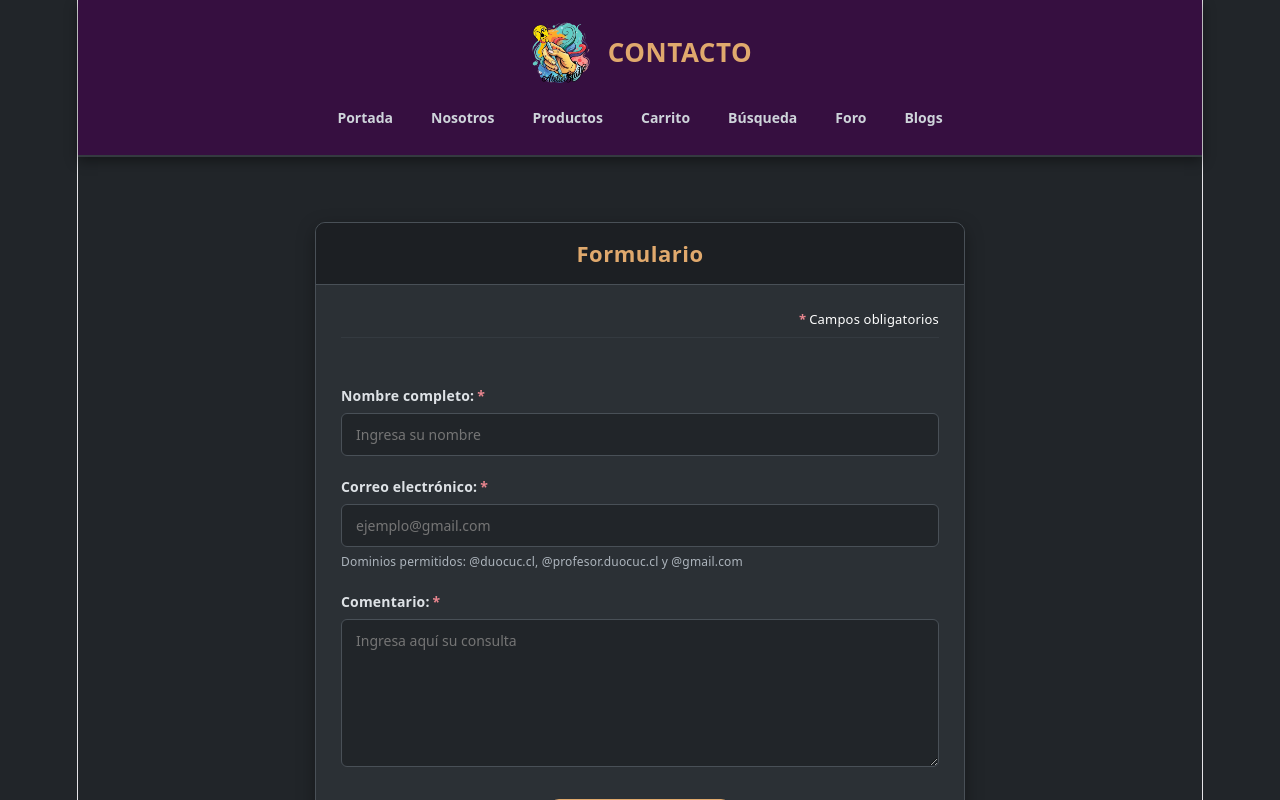
Test case: Pruebas Unitarias: Componente Contacto › CP-CONT-02: Debe mostrar error si el correo no pertenece a los dominios autorizados
Type "Gonzalo Hormazábal" into the field with placeholder "Ingresa su nombre".
click(640, 435); type("Gonzalo Hormazábal")  # box x1=341 y1=413 x2=939 y2=456
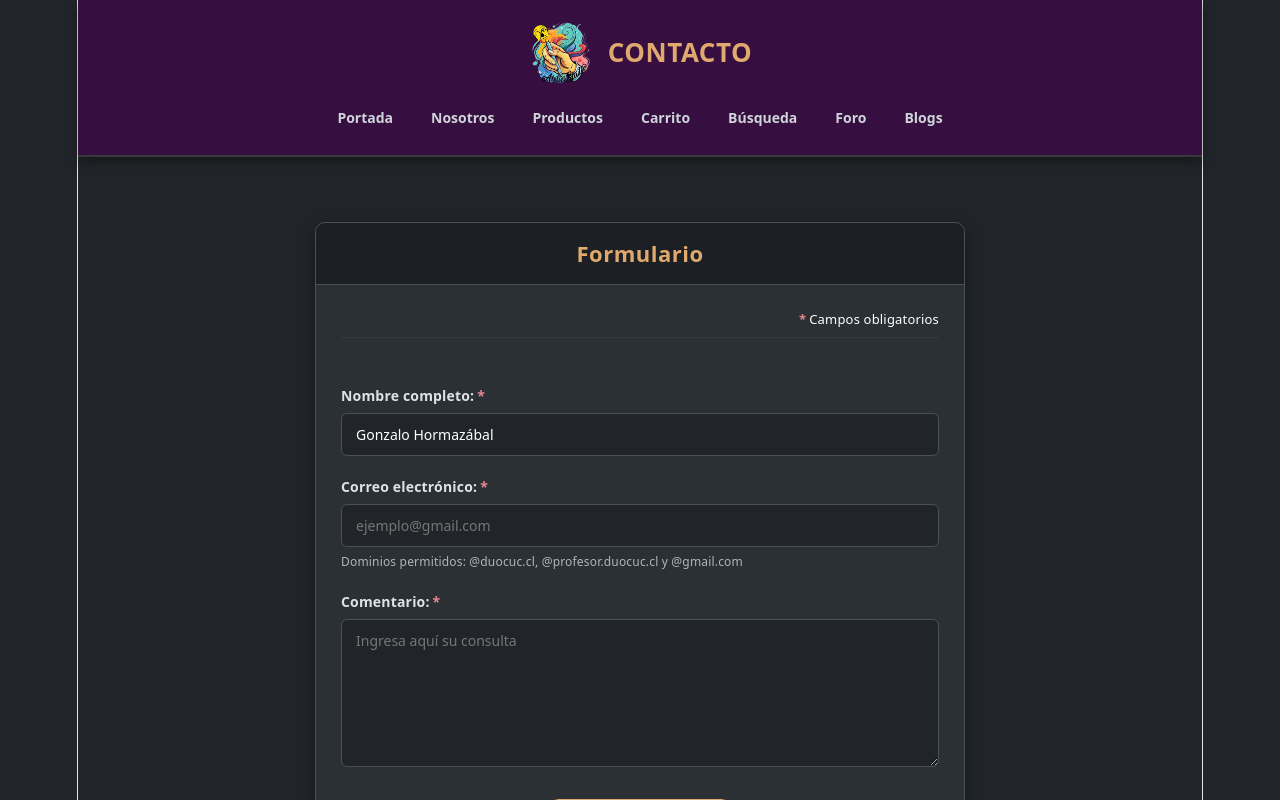
Type "test@hotmail.com" into the field with placeholder "ejemplo@gmail.com".
click(640, 526); type("test@hotmail.com")  # box x1=341 y1=504 x2=939 y2=547
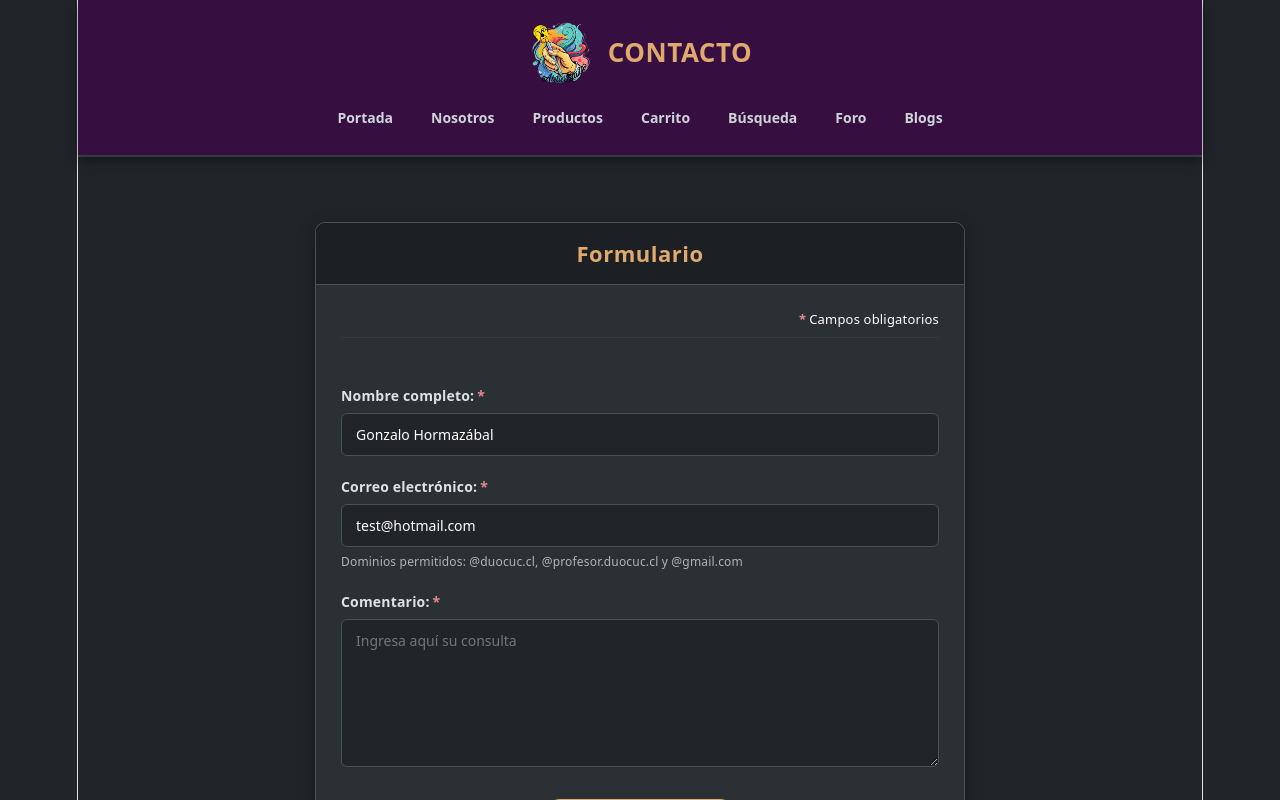
Type "Consulta de prueba sobre obras" into the text box with placeholder "Ingresa aquí su consulta".
click(640, 693); type("Consulta de prueba sobre obras")  # box x1=341 y1=619 x2=939 y2=767
(page scrolled)
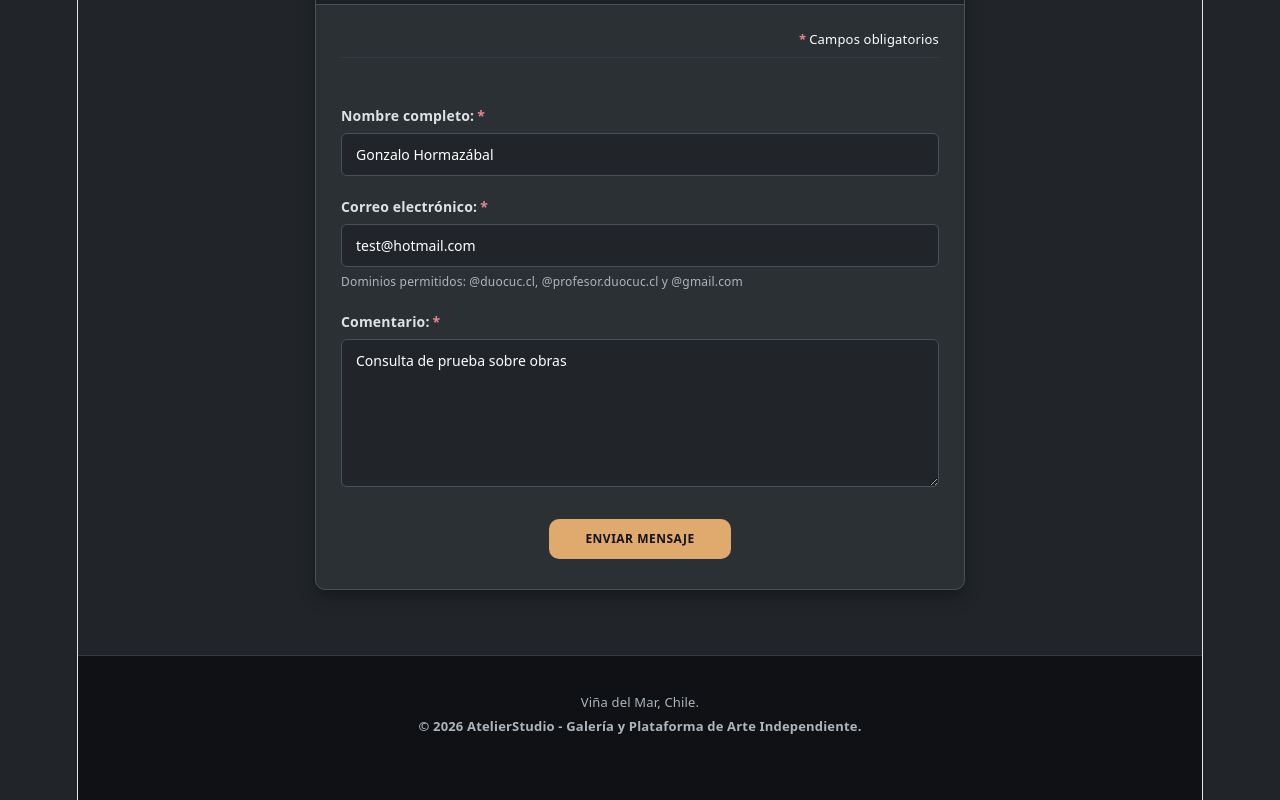
Click the button "ENVIAR MENSAJE".
click(640, 539)  # box x1=549 y1=519 x2=731 y2=559
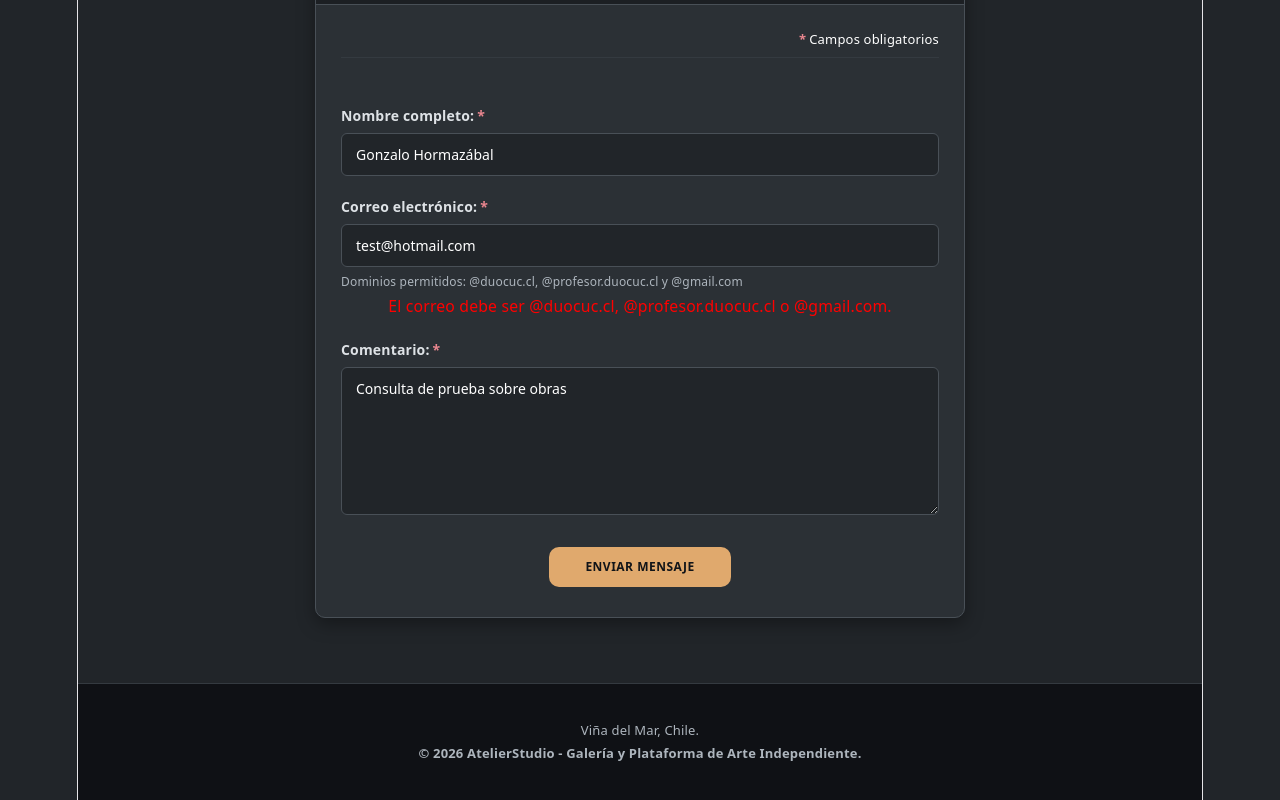
Now the text "El correo debe ser @duocuc.cl, @profesor.duocuc.cl o @gmail.com." is shown, box x1=388 y1=295 x2=892 y2=317
